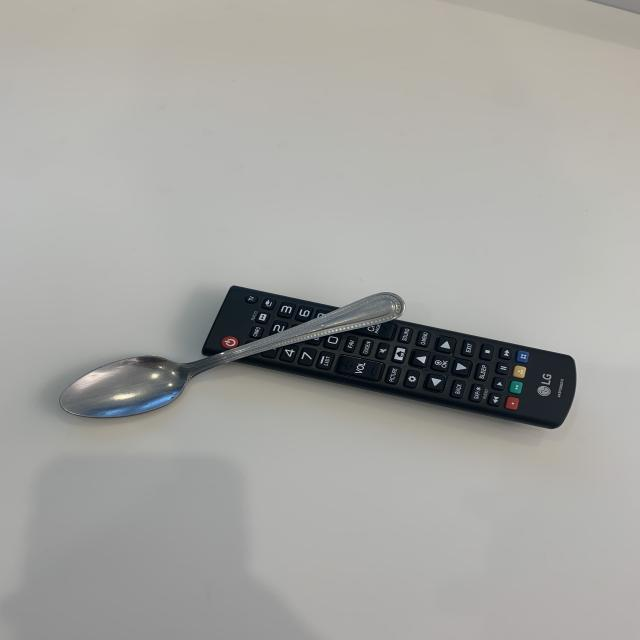Spoon: (54, 289, 406, 426)
